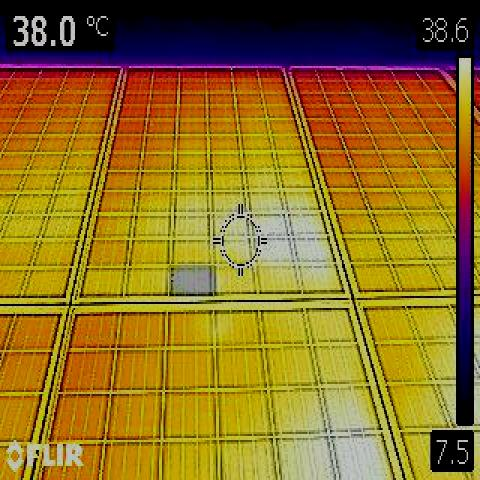fault: (169, 265, 215, 297)
